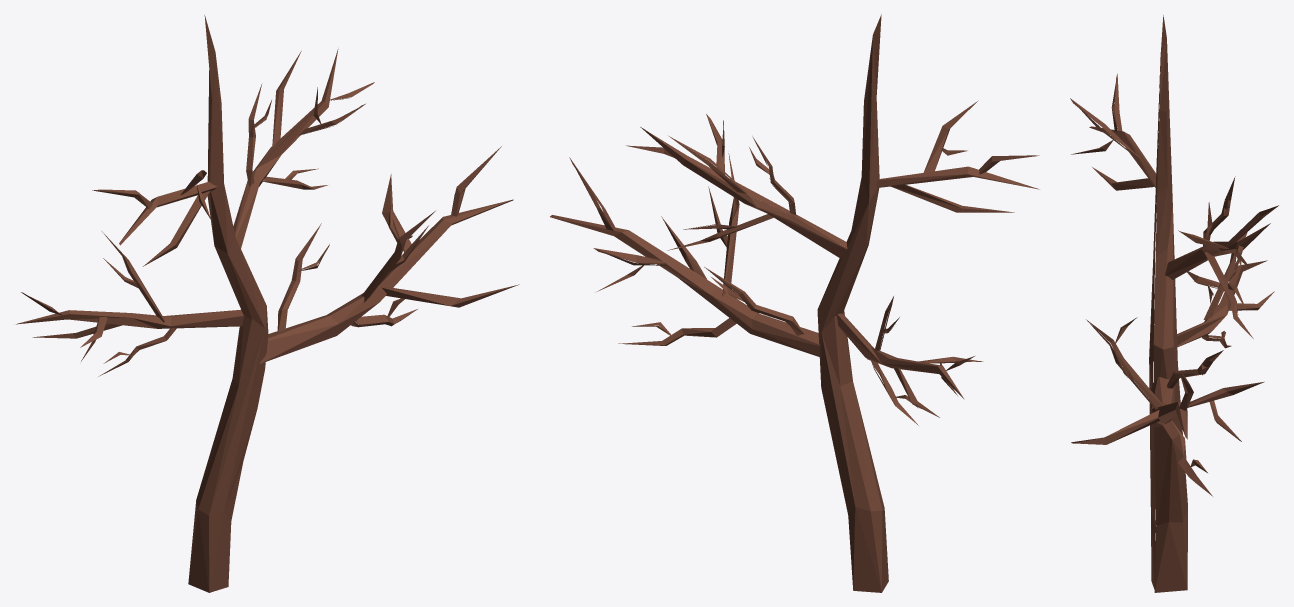
The model's file is estilizada-DeadTree_3.glb.
3 renders of one model, left to right at view 1: azimuth 30°, elevation 25°; view 2: azimuth 150°, elevation 25°; view 3: azimuth 270°, elevation 25°, orthographic.
Parts seen in each view (by area): view 1: DeadTree_3.001; view 2: DeadTree_3.001; view 3: DeadTree_3.001.
Boxes of the visible parts, x1,y1,x2,y2 form: DeadTree_3.001: (16,15,519,592); DeadTree_3.001: (550,14,1039,592); DeadTree_3.001: (1070,15,1278,592).
Size of the model in its own units: 4.17 by 4.96 by 1.67.
